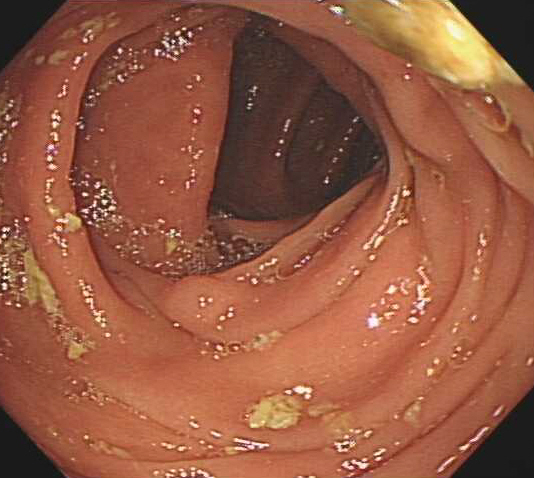adenoma: (157, 275, 243, 313)
